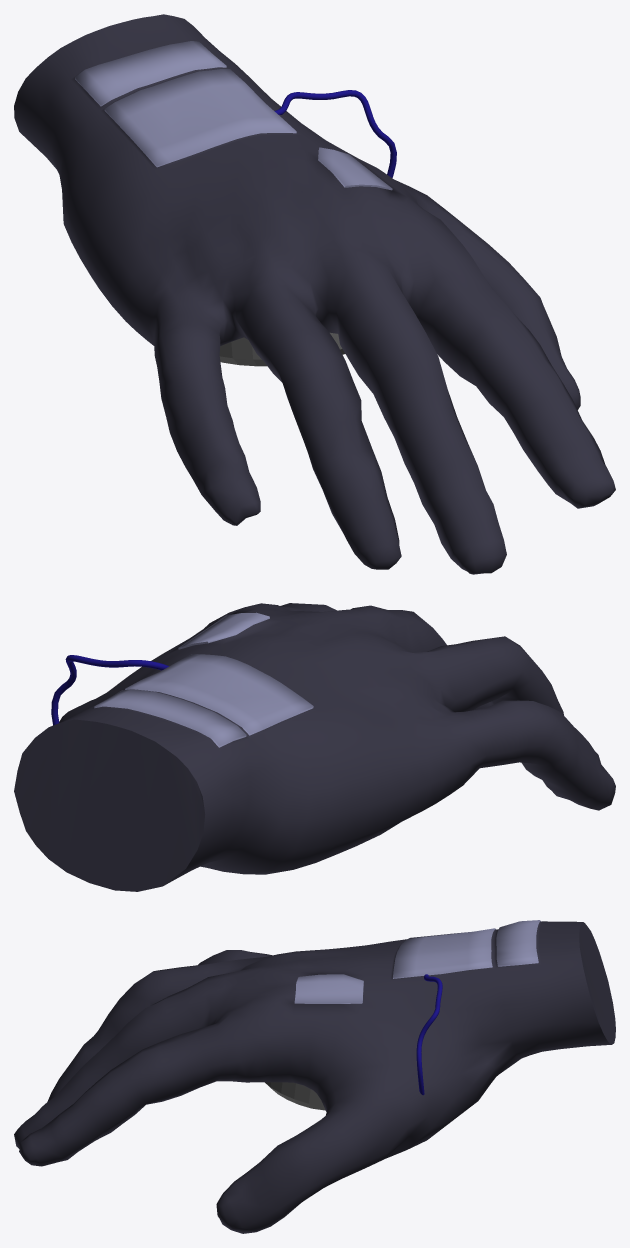
File: PolarisHandRight.fbx
3 views of the same model, one above another, from view 1: azimuth 30°, elevation 25°; view 2: azimuth 150°, elevation 25°; view 3: azimuth 270°, elevation 25° (orthographic). The views are drawn at different scales.
Visible parts, largest first — view 1: LeftHand, BézierCurve, Cylinder; view 2: LeftHand, BézierCurve; view 3: LeftHand, Cylinder, BézierCurve.
Part boxes in pixels (x1=…): LeftHand: x1=14, y1=14, x2=615, y2=574; BézierCurve: x1=274, y1=90, x2=396, y2=177; Cylinder: x1=219, y1=332, x2=345, y2=366; LeftHand: x1=14, y1=603, x2=615, y2=891; BézierCurve: x1=51, y1=655, x2=168, y2=725; LeftHand: x1=14, y1=920, x2=615, y2=1233; Cylinder: x1=265, y1=1082, x2=325, y2=1110; BézierCurve: x1=416, y1=974, x2=442, y2=1095.
Size of the model in its own units: 1247 by 786 by 1952.
